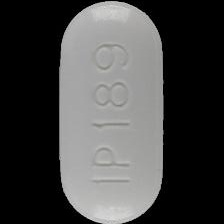68788-6421: (0, 0, 224, 224)
